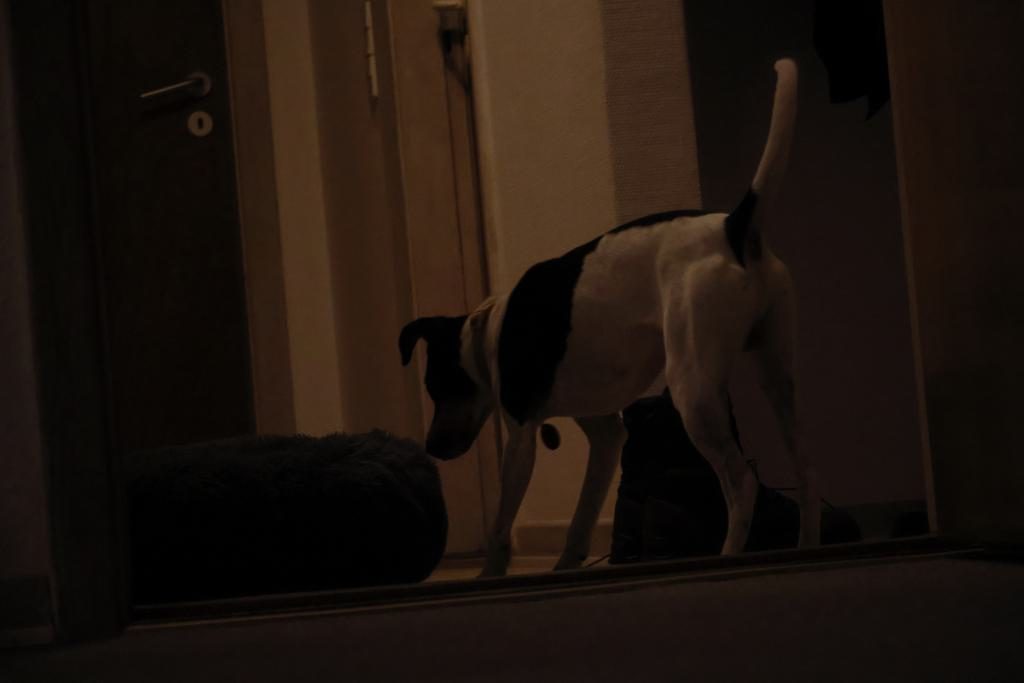Dog: (385, 48, 849, 579)
